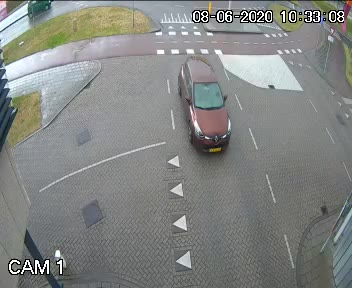car: (168, 46, 239, 153), (28, 0, 52, 23)
